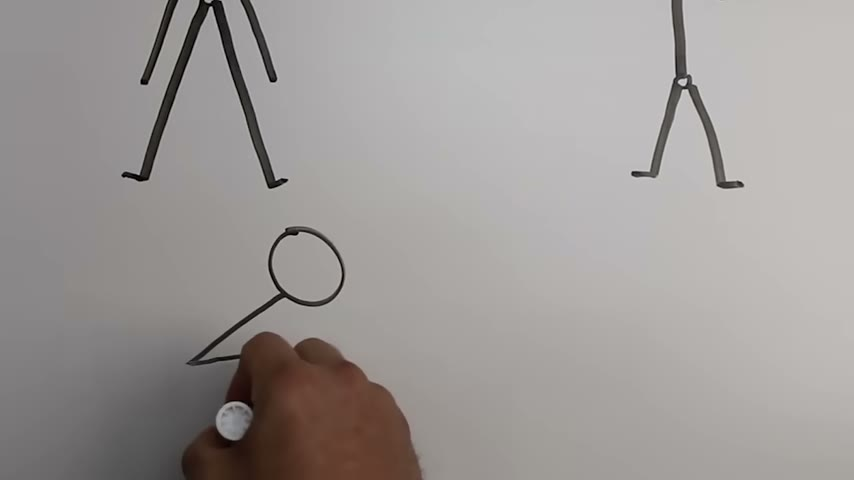barbell_plate_side: (299, 225, 351, 342)
